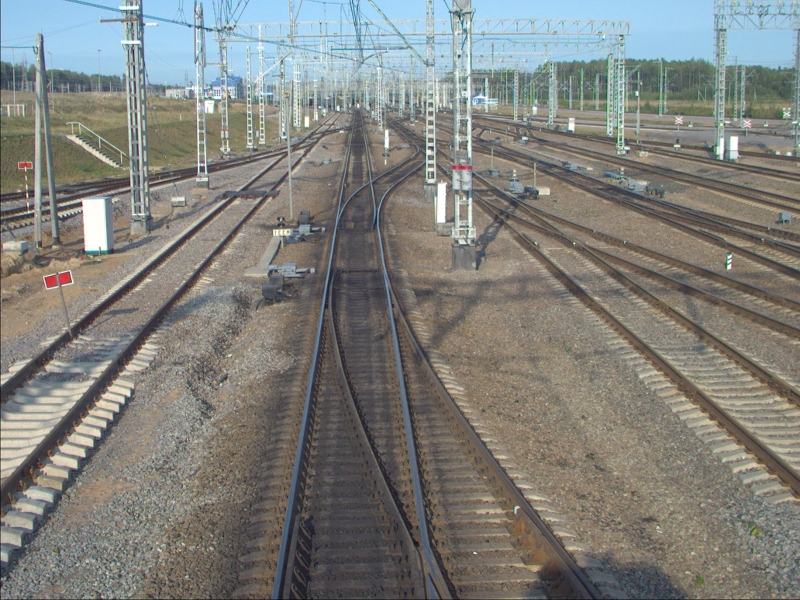right: (336, 176, 380, 230)
